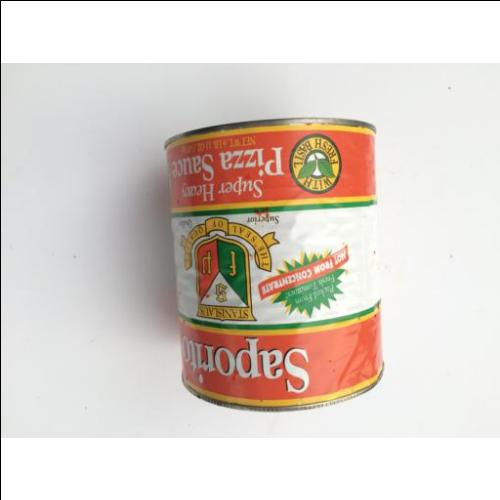metal: (171, 120, 384, 403)
